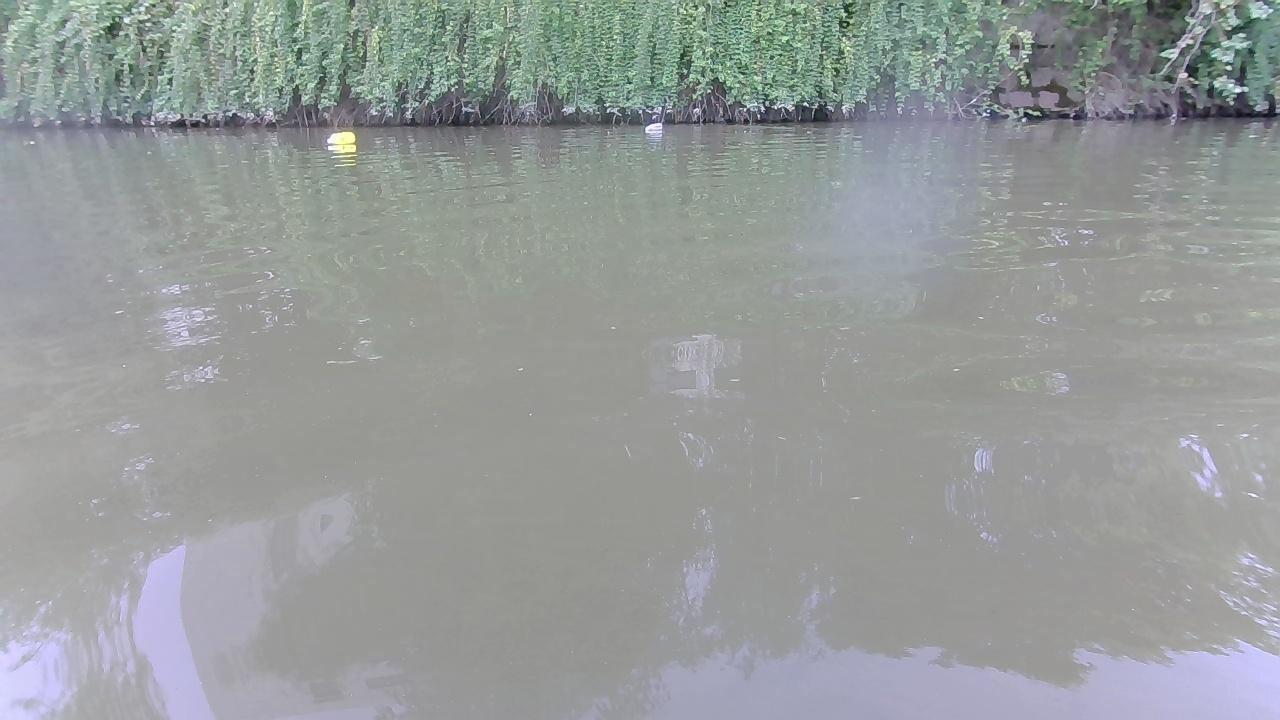bottle: (323, 127, 358, 146), (641, 122, 666, 135)
